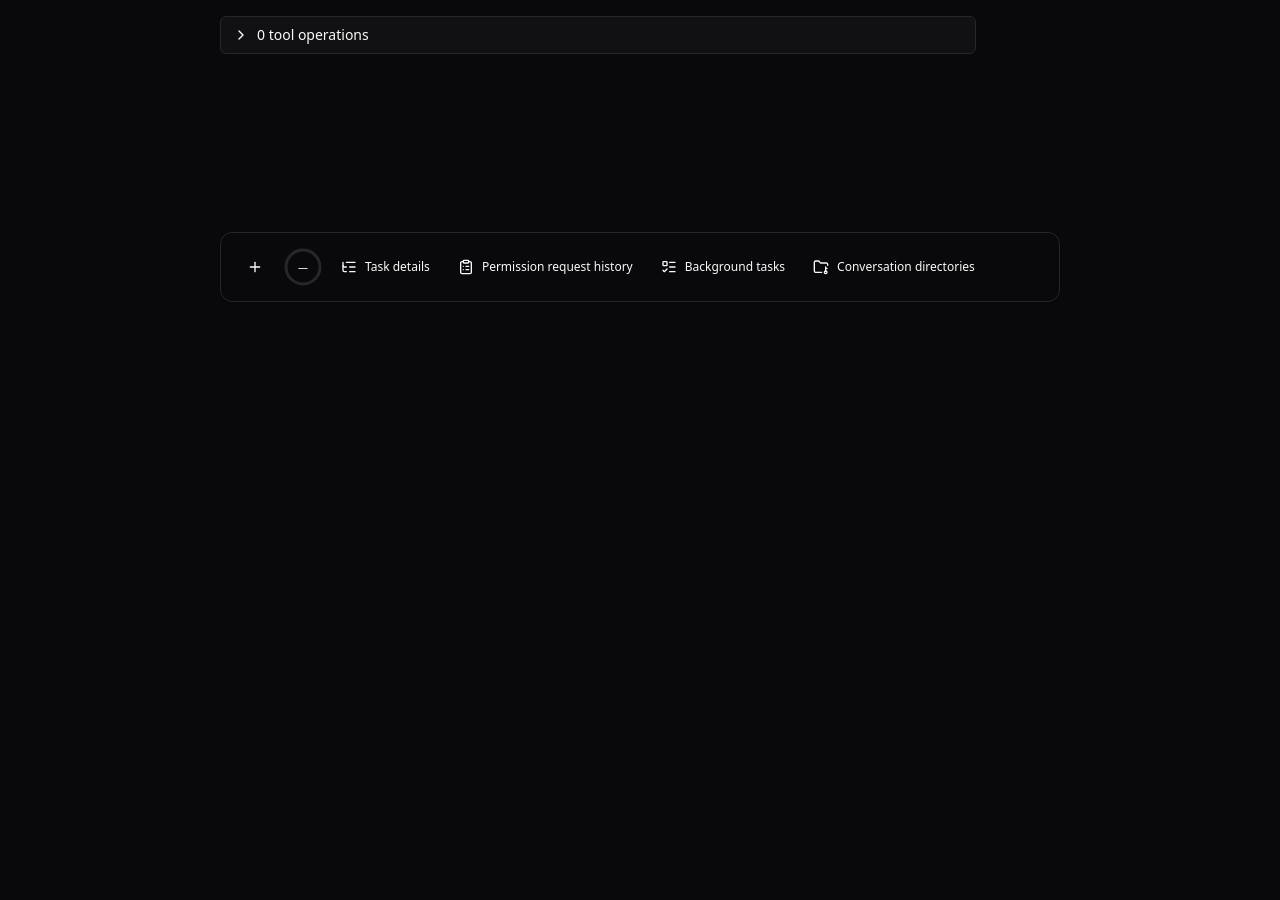
Scenario: keeps the + menu available for a completed child and opens its context panel
Press Enter in the button named "Conversation actions", box [233,245,277,289]
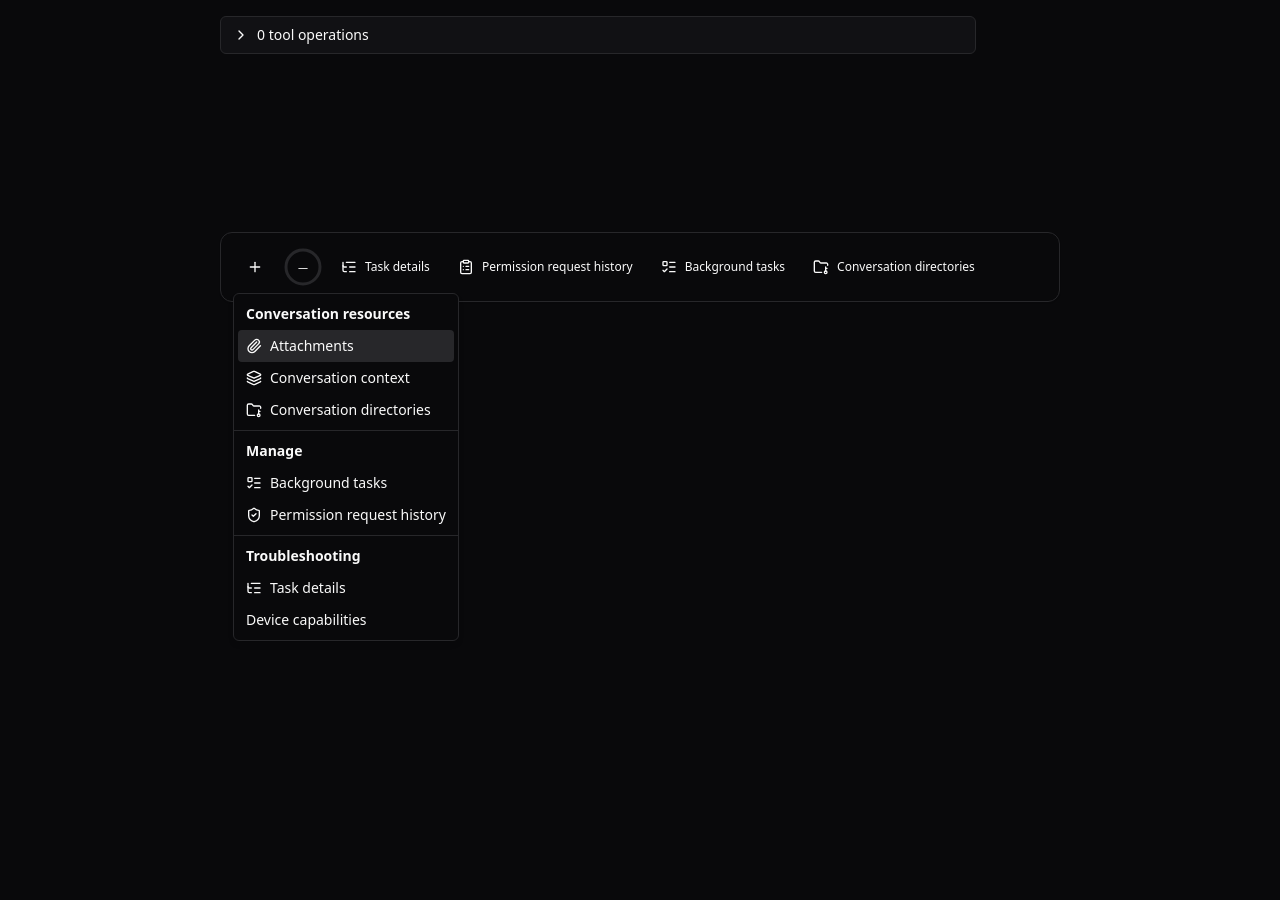
Click the menu item "Conversation context".
click(328, 378)  # box [246,368,410,387]
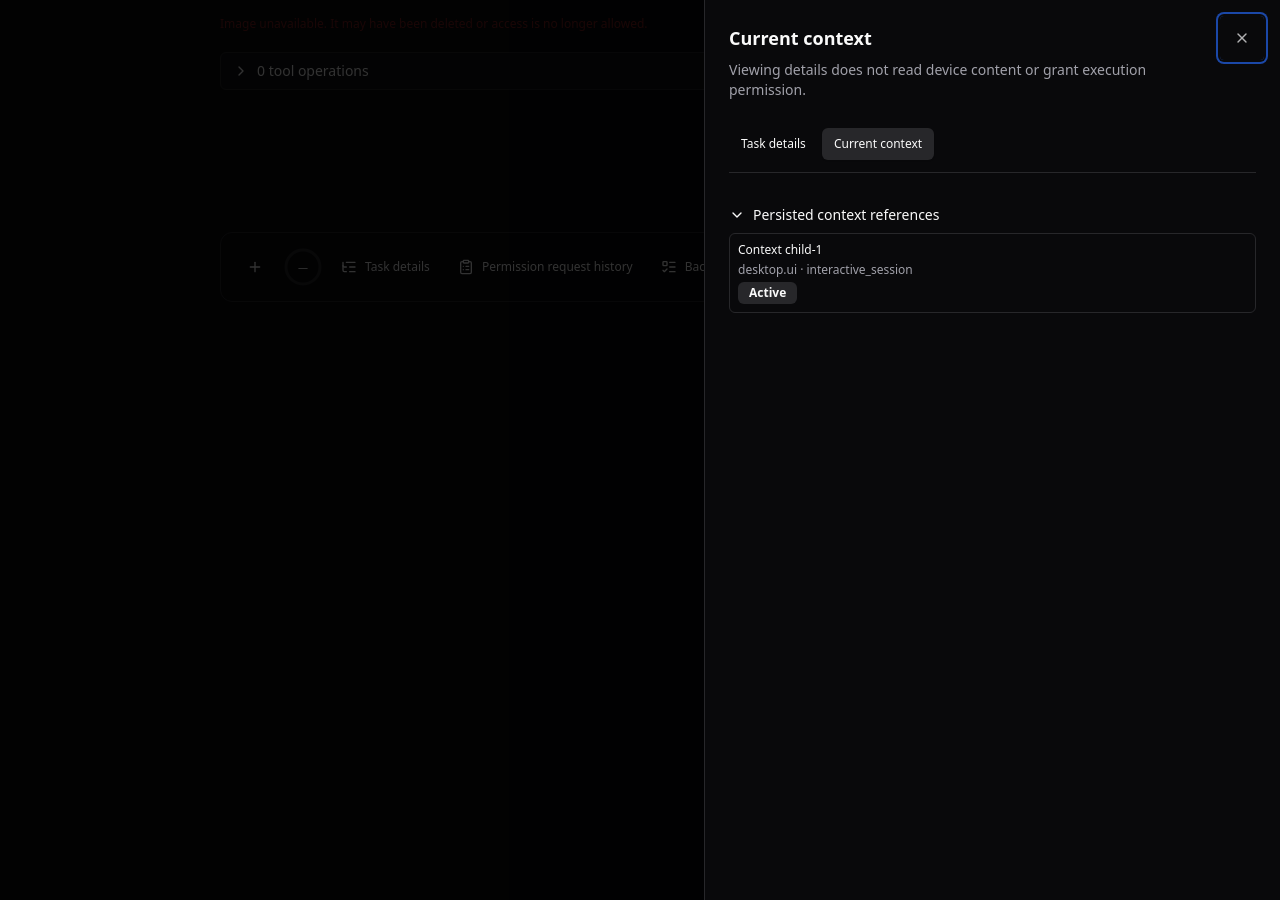
Expected: the text "Context child-1" is shown, [738,241,822,258]
